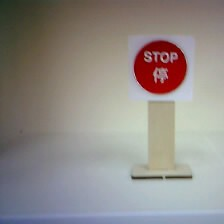stop: (125, 33, 194, 102)
